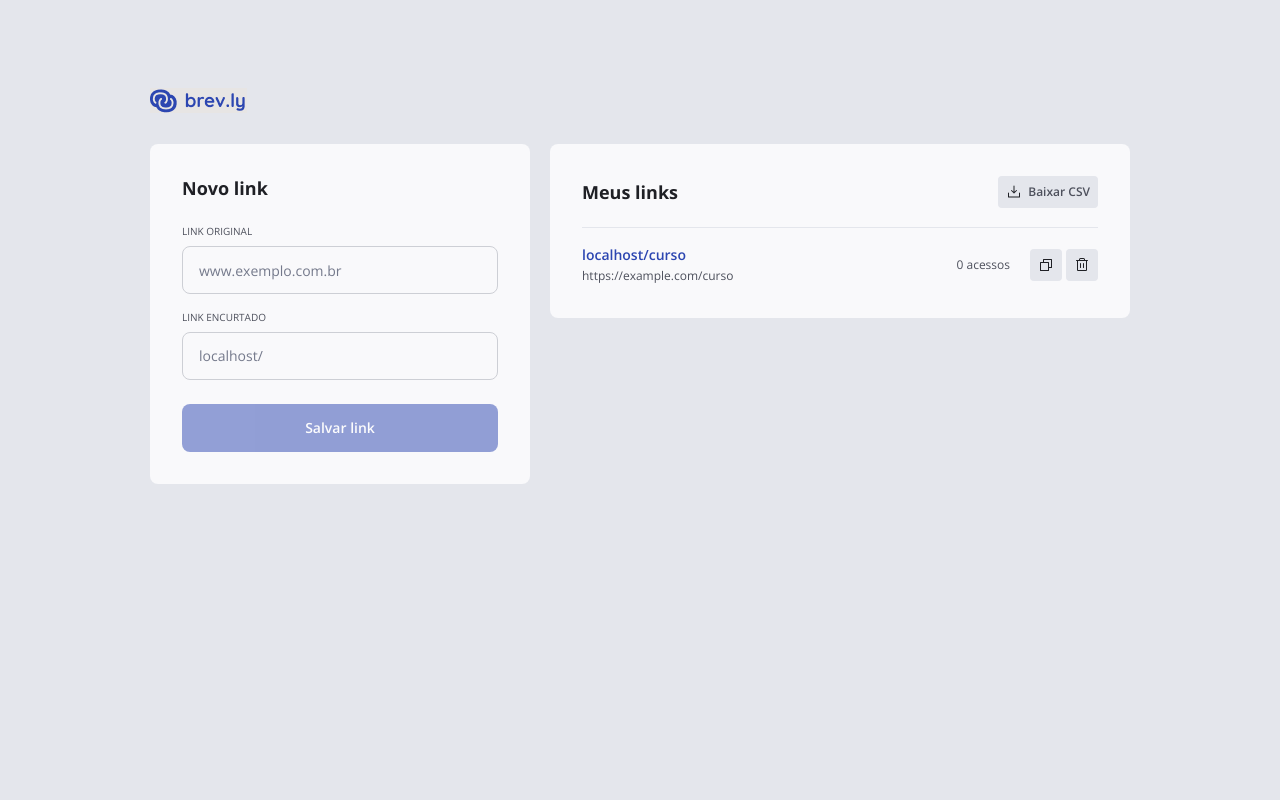
Test: Página inicial › exclui um link e atualiza o estado vazio
The width and height of the screenshot is (1280, 800).
Click the button named "Excluir link curso".
click(1082, 265)  # box [1066,249,1098,281]
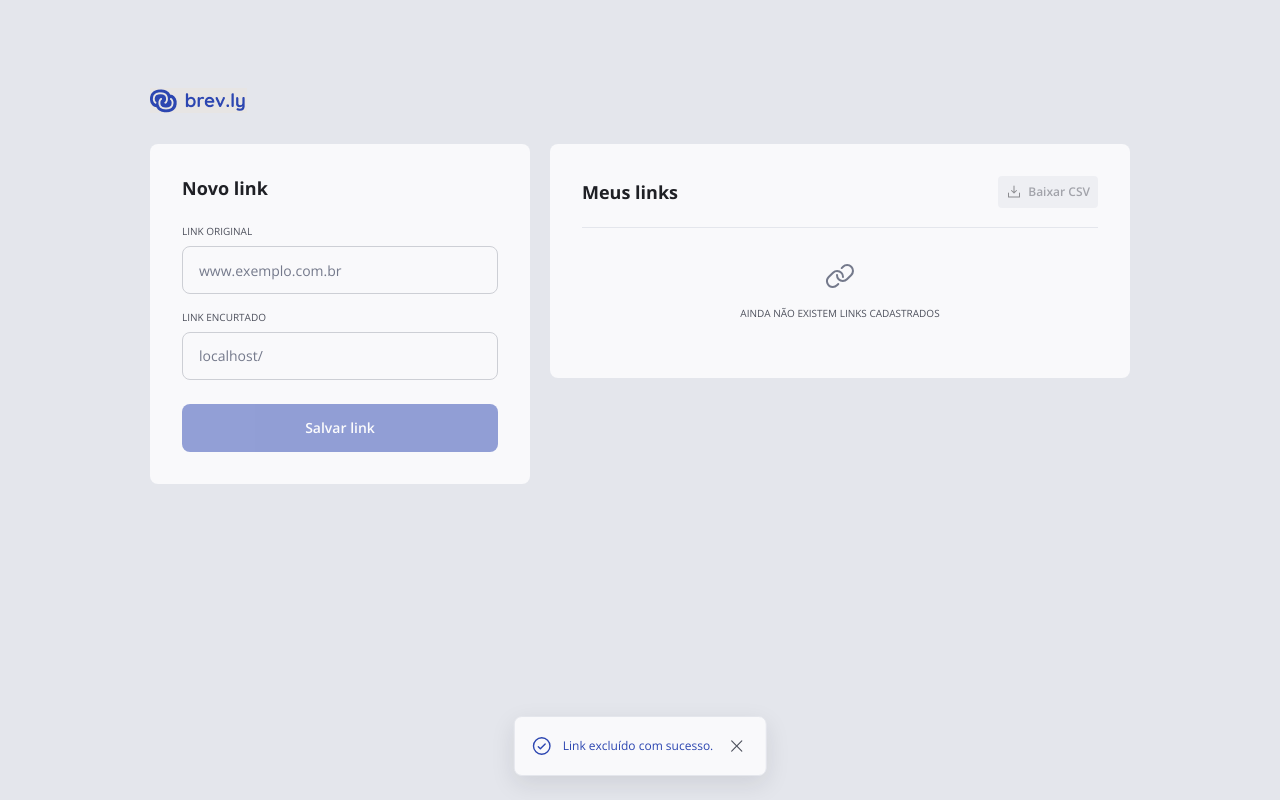
expect the text "Ainda não existem links cadastrados" is shown: met, box [740,304,940,322]
